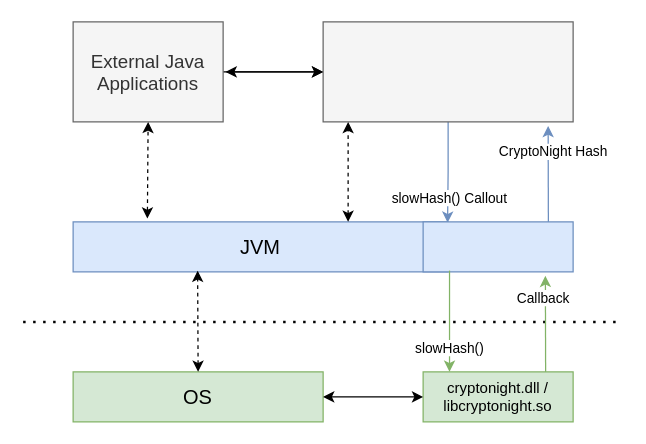
This 646x444 diagram has some shape labels left out. The centre of each missing label's shape, as x and y in pixels:
Cryptonight.java Wapper: the point at 447,71
JNI: the point at 497,246
